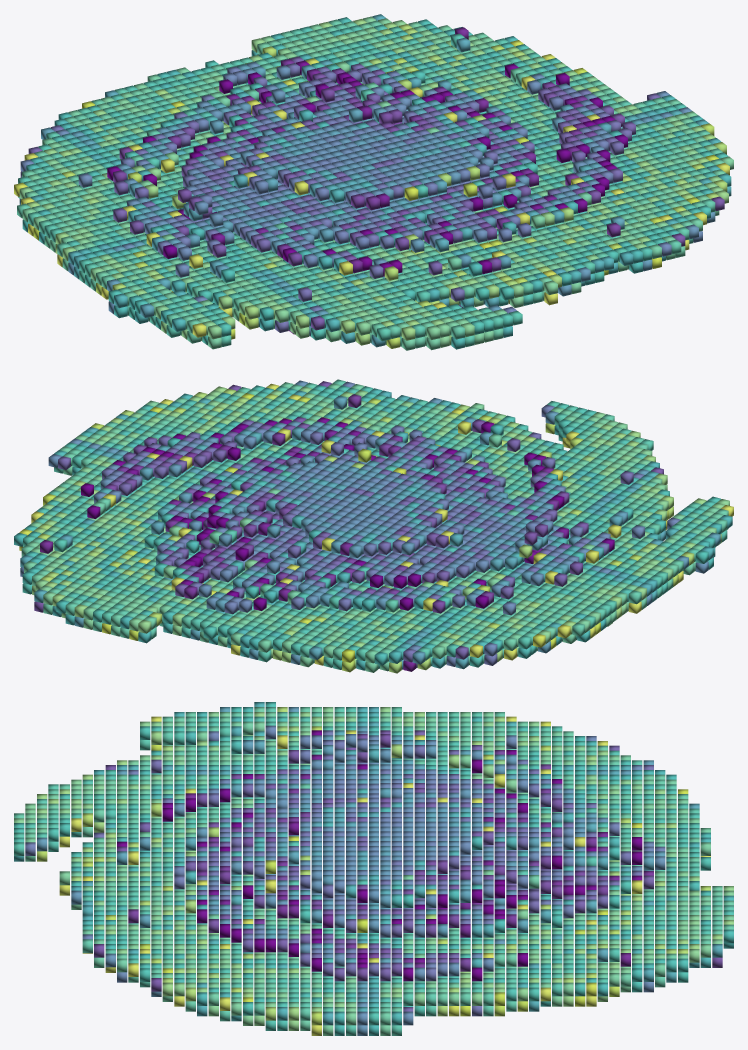
File: system_mass_E.gltf
The picture shows the model from 3 angles, top to bottom: view 1: azimuth 30°, elevation 25°; view 2: azimuth 150°, elevation 25°; view 3: azimuth 270°, elevation 25°; orthographic projection. The views are drawn at different scales.
Parts seen in each view (by area): view 1: Renderer Node; view 2: Renderer Node; view 3: Renderer Node.
Part boxes in pixels (<box>): Renderer Node: <box>14,14,733,350</box>; Renderer Node: <box>14,379,733,673</box>; Renderer Node: <box>14,702,733,1035</box>.
Size of the model in its own units: 83072 by 8832 by 80512.
